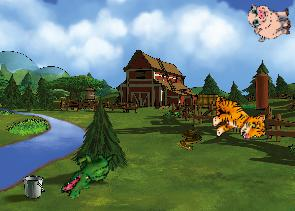crocodile: (58, 139, 117, 208)
pig: (247, 0, 292, 42)
tiger: (210, 94, 266, 141)
